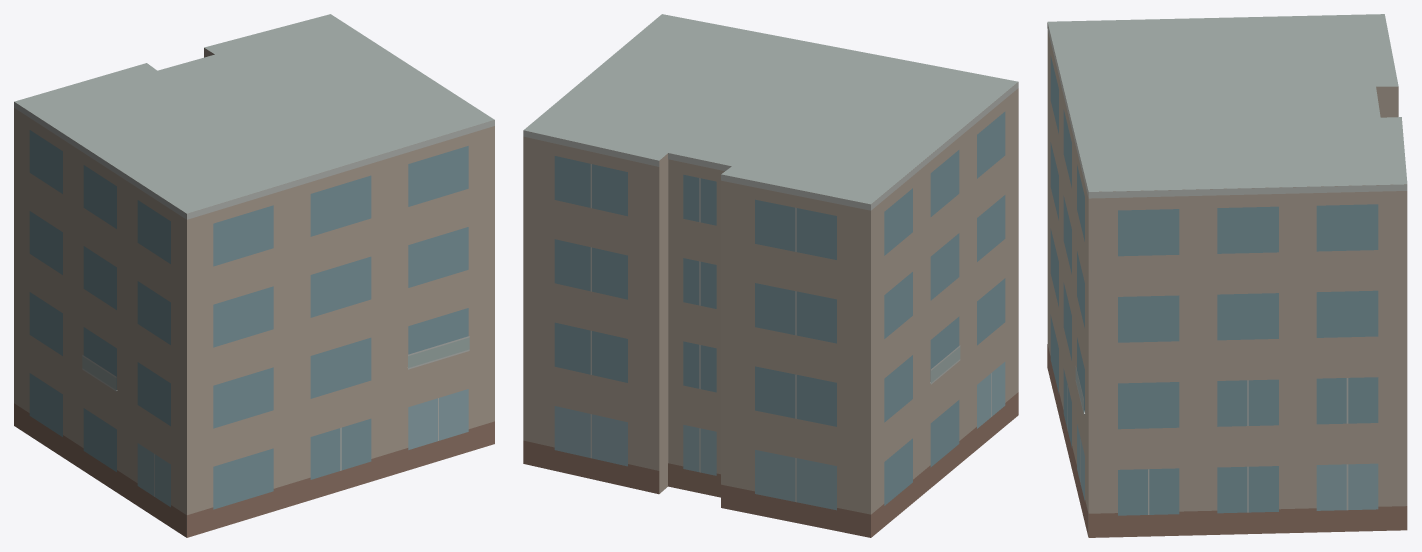
Rendered from survey-upis-32747353.glb.
3 renders of one model, left to right at view 1: azimuth 30°, elevation 25°; view 2: azimuth 150°, elevation 25°; view 3: azimuth 270°, elevation 25°, orthographic. The views are drawn at different scales.
Parts seen in each view (by area): view 1: survey-upis-32747353.tmp; view 2: survey-upis-32747353.tmp; view 3: survey-upis-32747353.tmp.
Part boxes in pixels (left/top/right/bottom): survey-upis-32747353.tmp: left=14, top=14, right=494, bottom=537; survey-upis-32747353.tmp: left=523, top=14, right=1018, bottom=537; survey-upis-32747353.tmp: left=1047, top=14, right=1407, bottom=537.
Bounding box in the file's own units: 14.31 × 12.95 × 12.23.
